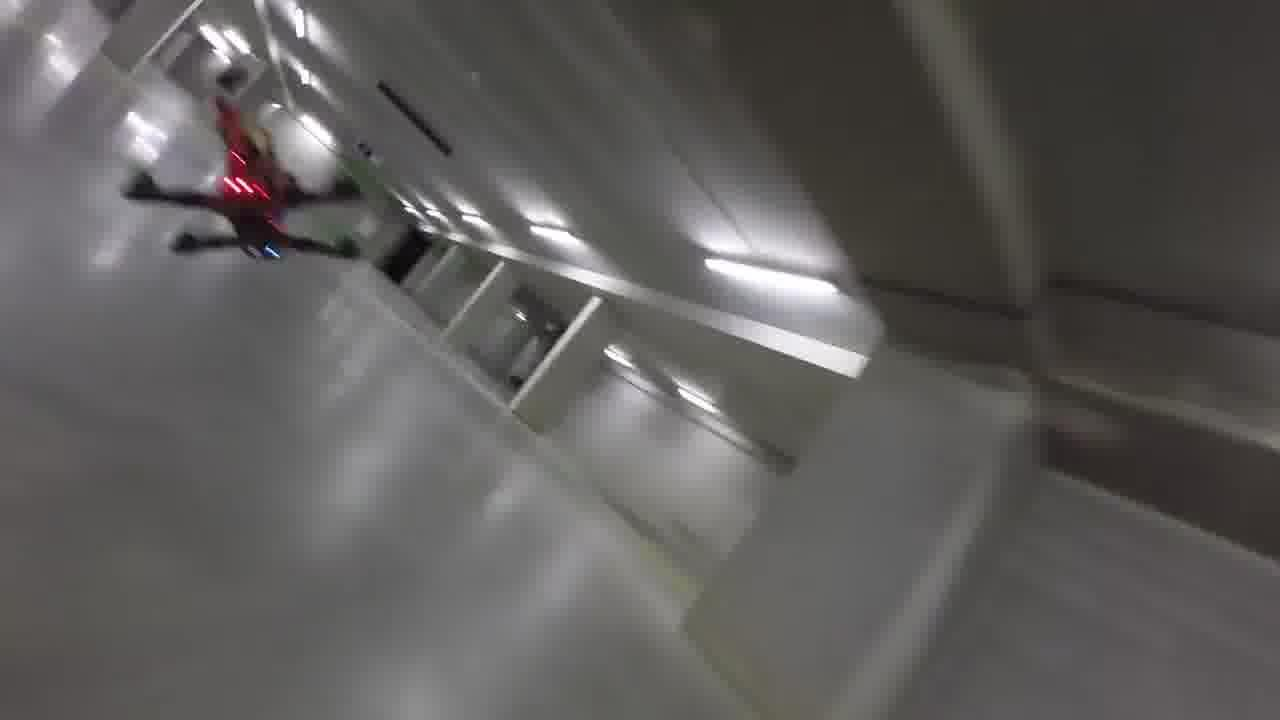drone: (123, 103, 401, 299)
